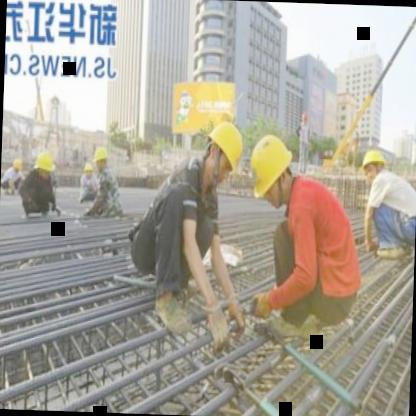helmet: (243, 124, 299, 210), (198, 115, 247, 188), (358, 145, 391, 182), (33, 150, 57, 186), (92, 142, 112, 172)
